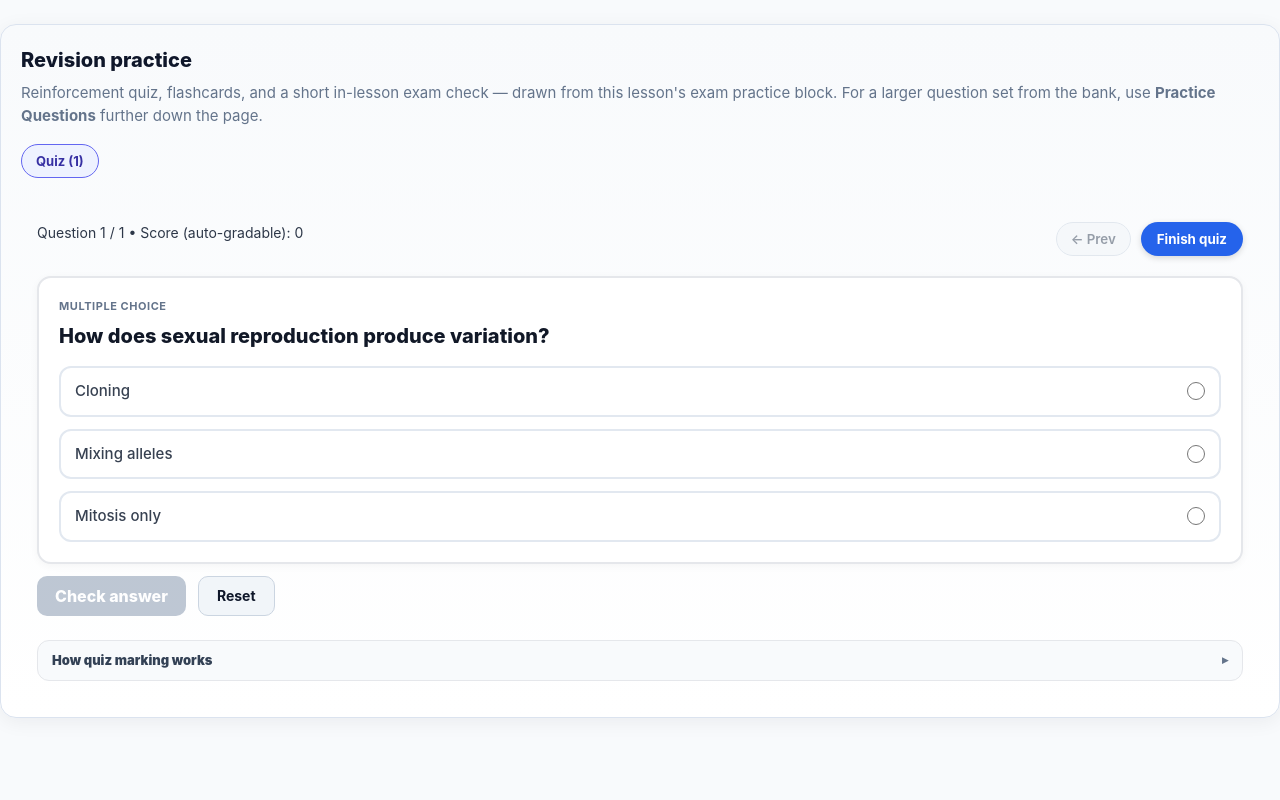
Scenario: StudentRetrievalSection fresh CTA gate › imperfect Finish shows Retry same quiz and does not mount fresh CTA
This screenshot has width=1280, height=800.
Click the radio button named "Cloning" at (1196, 391), box top-left (1187, 382), bottom-right (1205, 400)
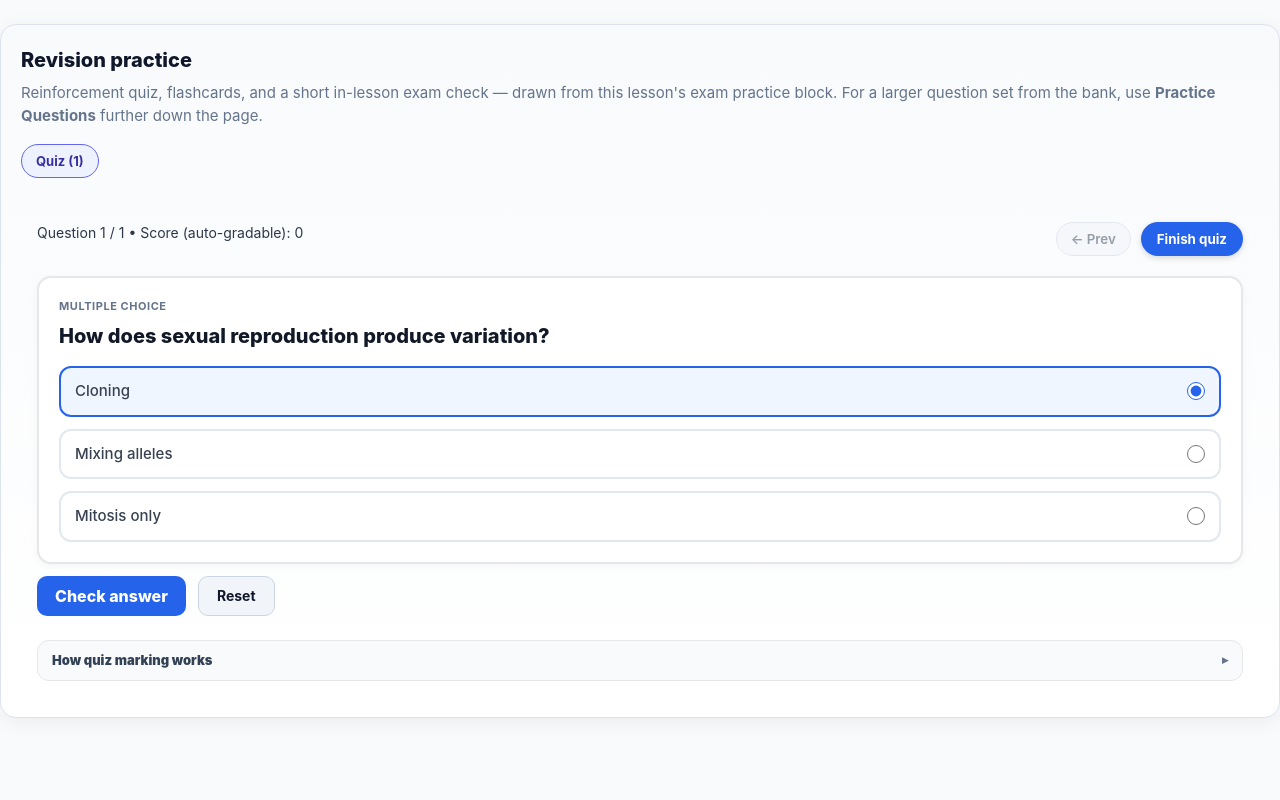
Click the button "Check answer" at (111, 596), box top-left (37, 576), bottom-right (186, 616)
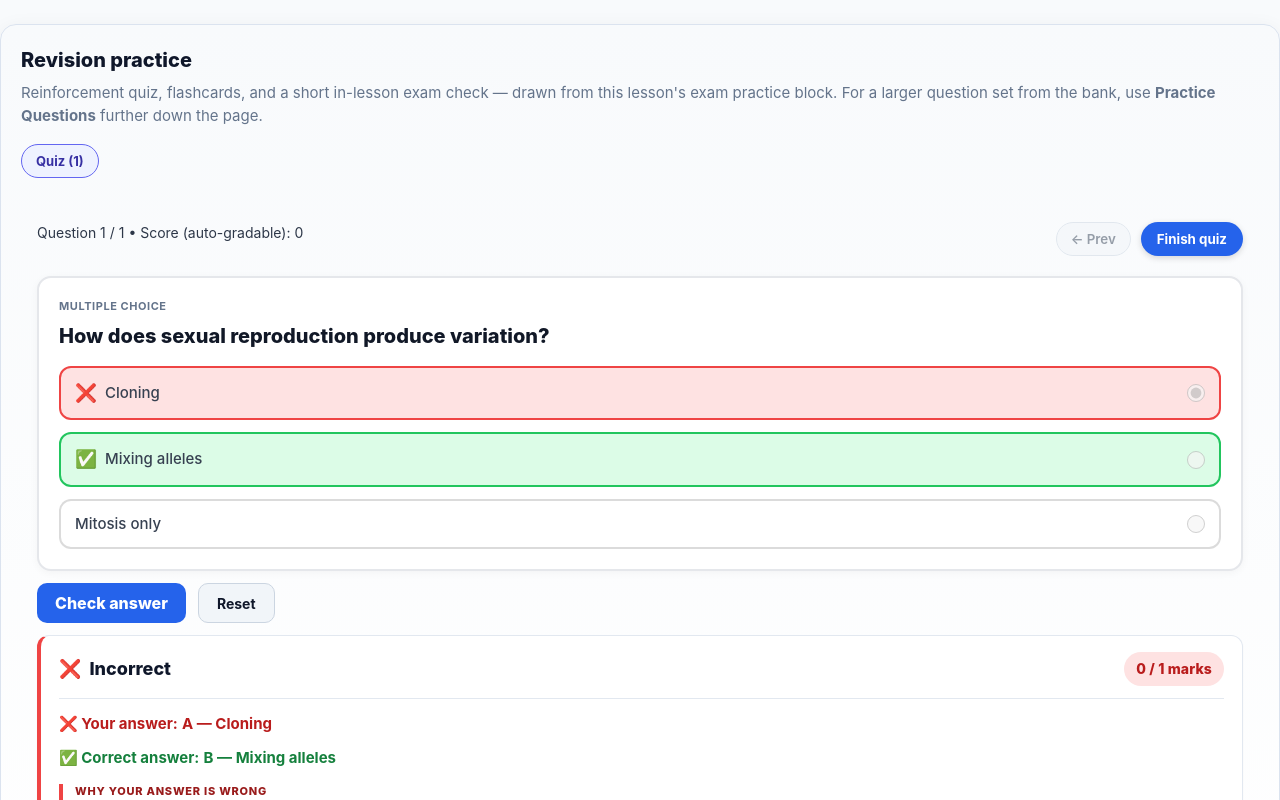
Click the button "Finish quiz" at (1192, 238), box top-left (1141, 222), bottom-right (1243, 256)
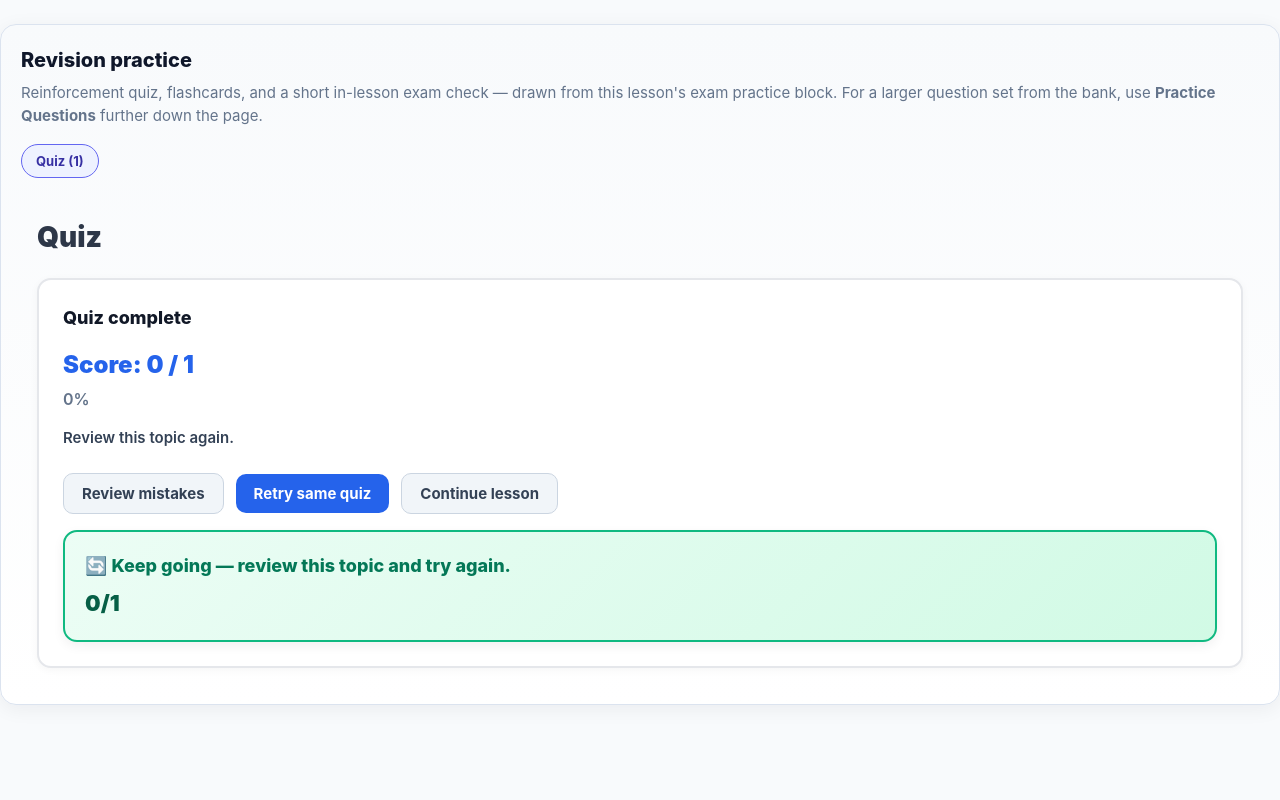
expect the text "Score: 0 / 1" is shown: met, box top-left (63, 350), bottom-right (194, 378)
expect the button with test id "revision-try-again" reads "Retry same quiz": met, box top-left (236, 474), bottom-right (389, 513)
expect the button with test id "revision-review-mistakes" is shown: met, box top-left (63, 473), bottom-right (224, 514)
